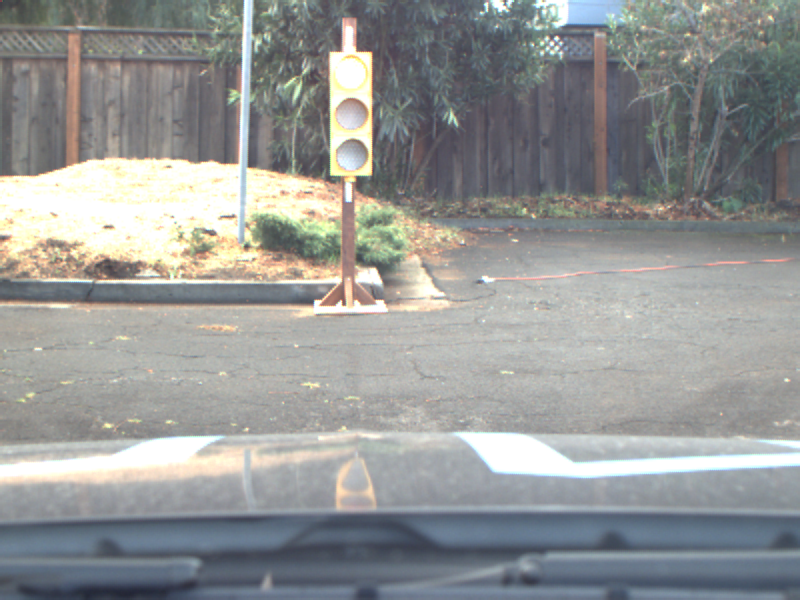Red: (329, 51, 373, 177)
